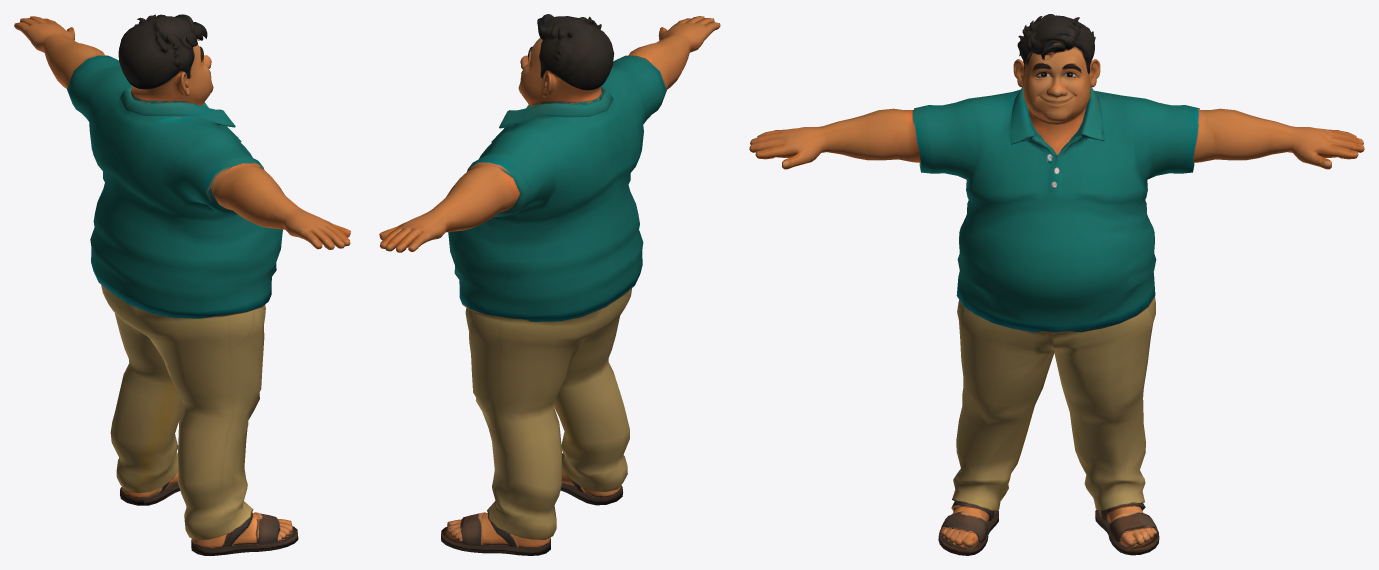
File: tripo_convert_4799adad-23c8-402b-8544-c67ba99a1db3.glb
The picture shows the model from 3 angles, left to right: view 1: azimuth 30°, elevation 25°; view 2: azimuth 150°, elevation 25°; view 3: azimuth 270°, elevation 25°; orthographic projection. The views are drawn at different scales.
Parts seen in each view (by area): view 1: tripo_node_4799adad-23c8-402b-8544-c67ba99a1db3; view 2: tripo_node_4799adad-23c8-402b-8544-c67ba99a1db3; view 3: tripo_node_4799adad-23c8-402b-8544-c67ba99a1db3.
Part boxes in pixels (box(x1,y1,x2,y2)): tripo_node_4799adad-23c8-402b-8544-c67ba99a1db3: box(14, 14, 350, 555); tripo_node_4799adad-23c8-402b-8544-c67ba99a1db3: box(379, 14, 720, 555); tripo_node_4799adad-23c8-402b-8544-c67ba99a1db3: box(749, 14, 1364, 555).
Bounding box in the file's own units: 0.2964 × 0.8911 × 0.9995.
Materials: 1 (1 with a texture image).
